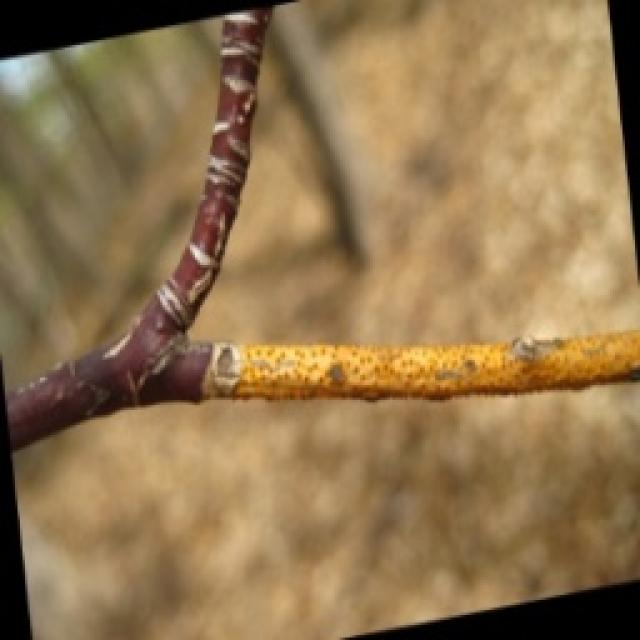Golden_canker: (210, 320, 638, 402)
